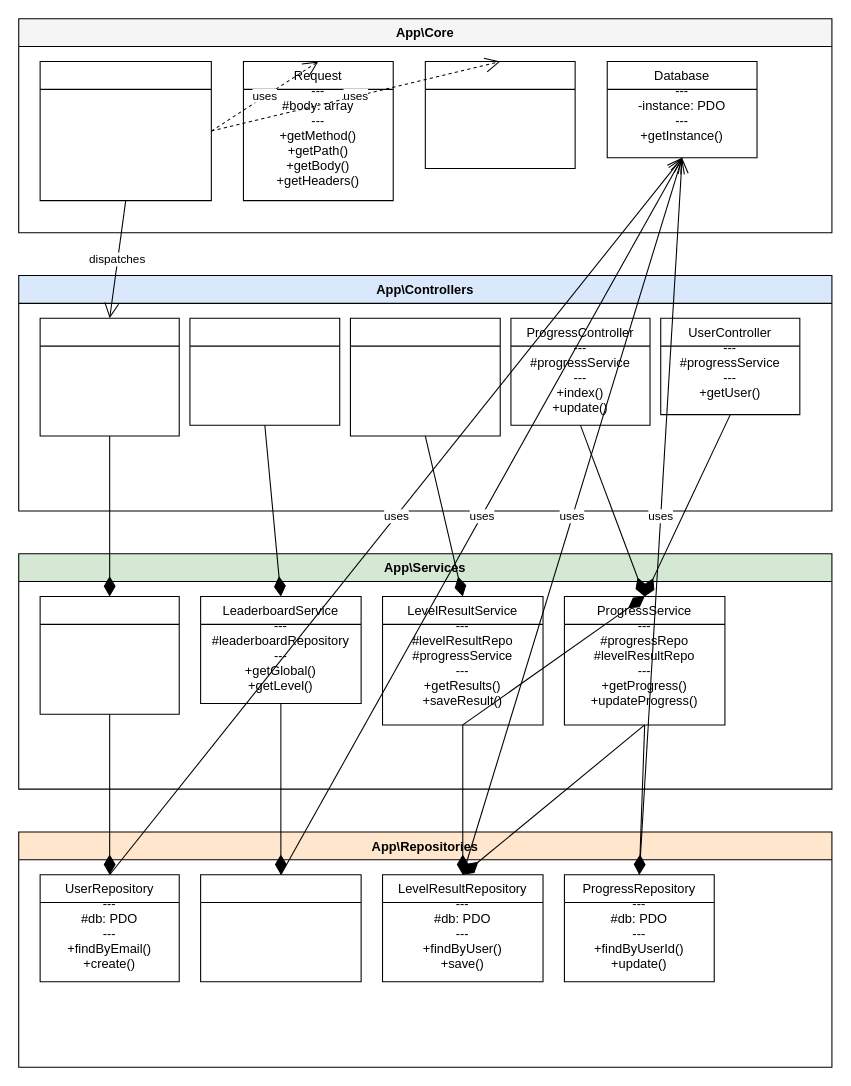
Image size: 851x1086. Some labels were removed from this diagram. The centre of each missing label's shape, as x and y in pixels:
"AuthController --- #authService --- +register() +login() +logout()" goes at point 109,376.
"AuthService --- #userRepository --- +register() +login() +logout()" goes at point 109,654.
"LeaderboardController --- #leaderboardService --- +global() +level()" goes at point 264,371.
"LeaderboardRepository --- #db: PDO --- +getGlobalTop() +getLevelTop()" goes at point 280,928.
"LevelResultController --- #levelResultService --- +index() +mapStars() +save()" goes at point 424,376.
"Response --- --- +json() +error() +success()" goes at point 499,114.
"Router --- #routes: array #middleware: array --- +get() +post() +dispatch()" goes at point 125,130.
